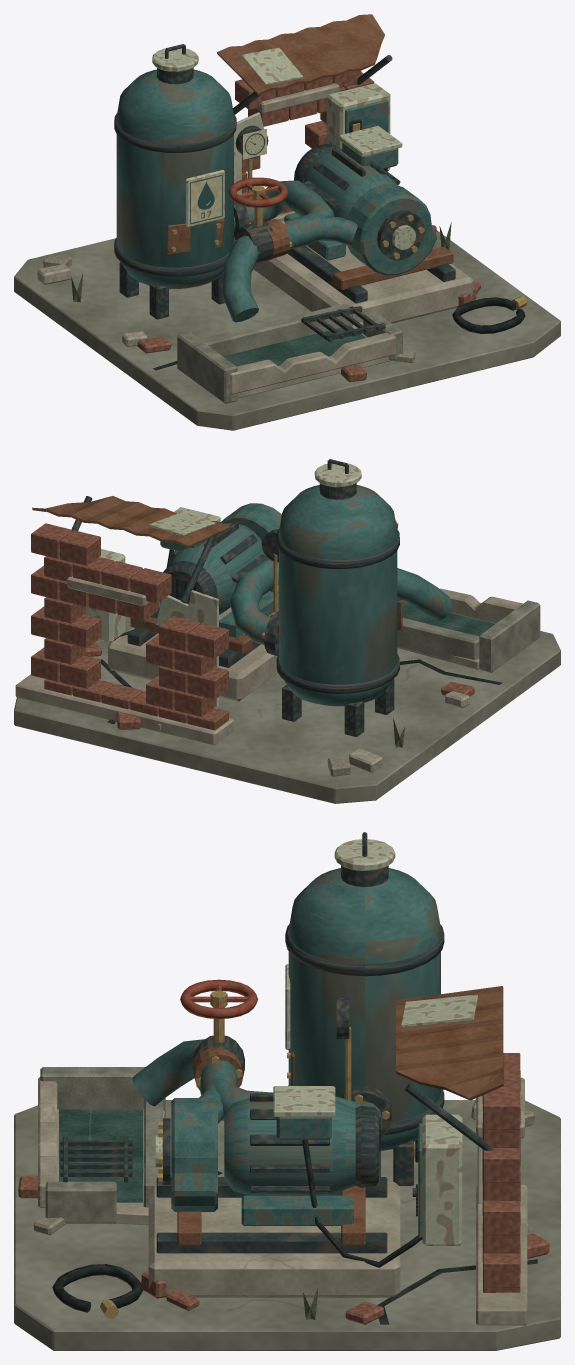
Rendered from water_station.glb.
The picture shows the model from 3 angles, top to bottom: view 1: azimuth 30°, elevation 25°; view 2: azimuth 150°, elevation 25°; view 3: azimuth 270°, elevation 25°; orthographic projection. The views are drawn at different scales.
Parts seen in each view (by area): view 1: water_station; view 2: water_station; view 3: water_station.
Boxes of the visible parts, x1,y1,x2,y2 form: water_station: [14, 14, 560, 430]; water_station: [14, 459, 560, 803]; water_station: [14, 832, 560, 1350].
Size of the model in its own units: 4.24 by 2.96 by 4.24.
Materials: 1 (1 with a texture image).
